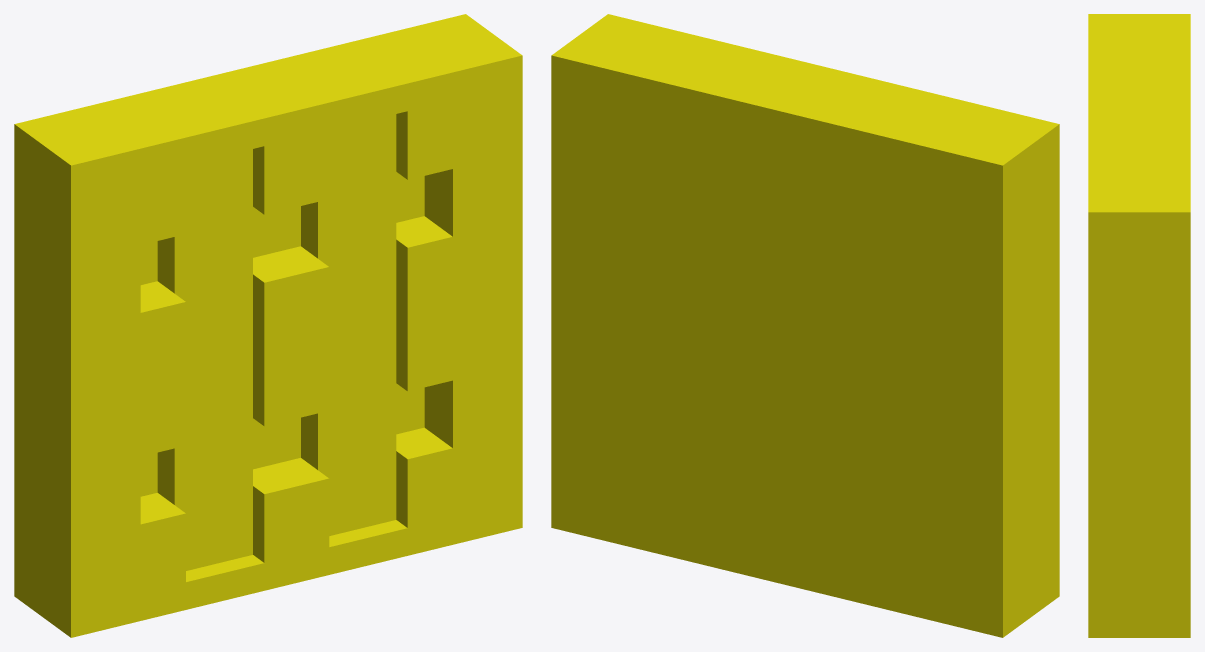
3 renders of one model, left to right at view 1: azimuth 30°, elevation 25°; view 2: azimuth 150°, elevation 25°; view 3: azimuth 270°, elevation 25°, orthographic. The views are drawn at different scales.
Visible parts, largest first — view 1: obj1; view 2: obj1; view 3: obj1.
Boxes of the visible parts, x1,y1,x2,y2 form: obj1: (14, 14, 522, 637); obj1: (551, 14, 1059, 637); obj1: (1088, 14, 1190, 637).
Size of the model in its own units: 230 by 230 by 50.
